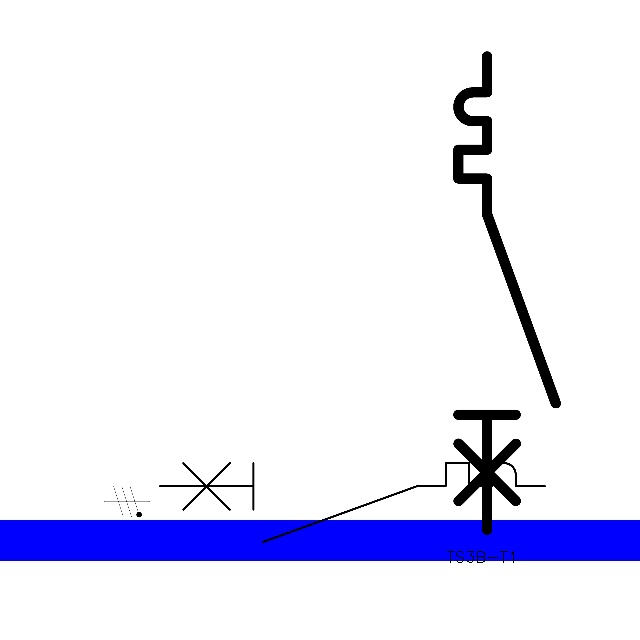interruptor_termomagnetico: (446, 44, 568, 542), (149, 453, 554, 552)
